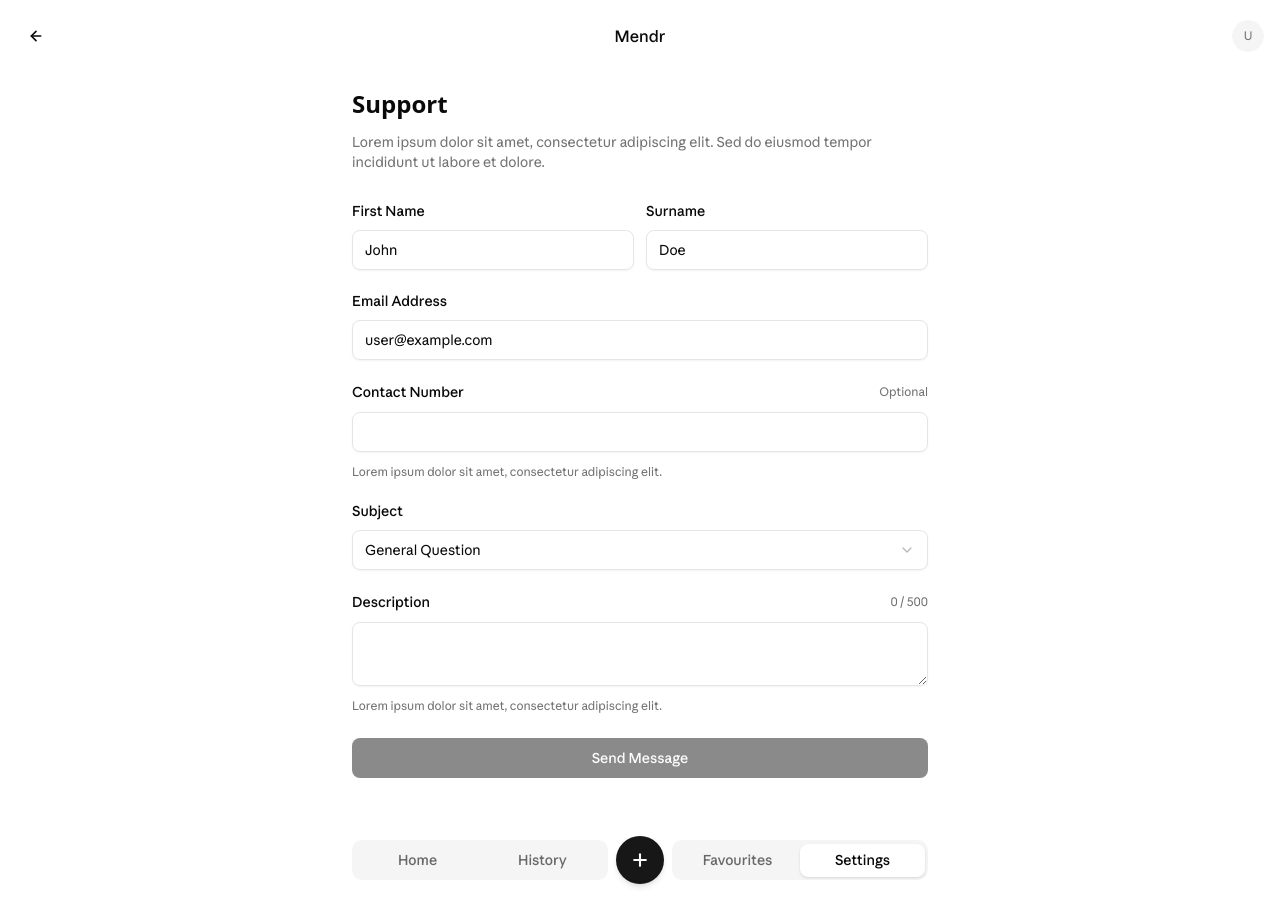
Test: settings/support/client.tsx › "Send Another Message" button resets to the form
In the text box labelled "Description": (640, 654) [352,622,928,686], type "Hello, I need help."
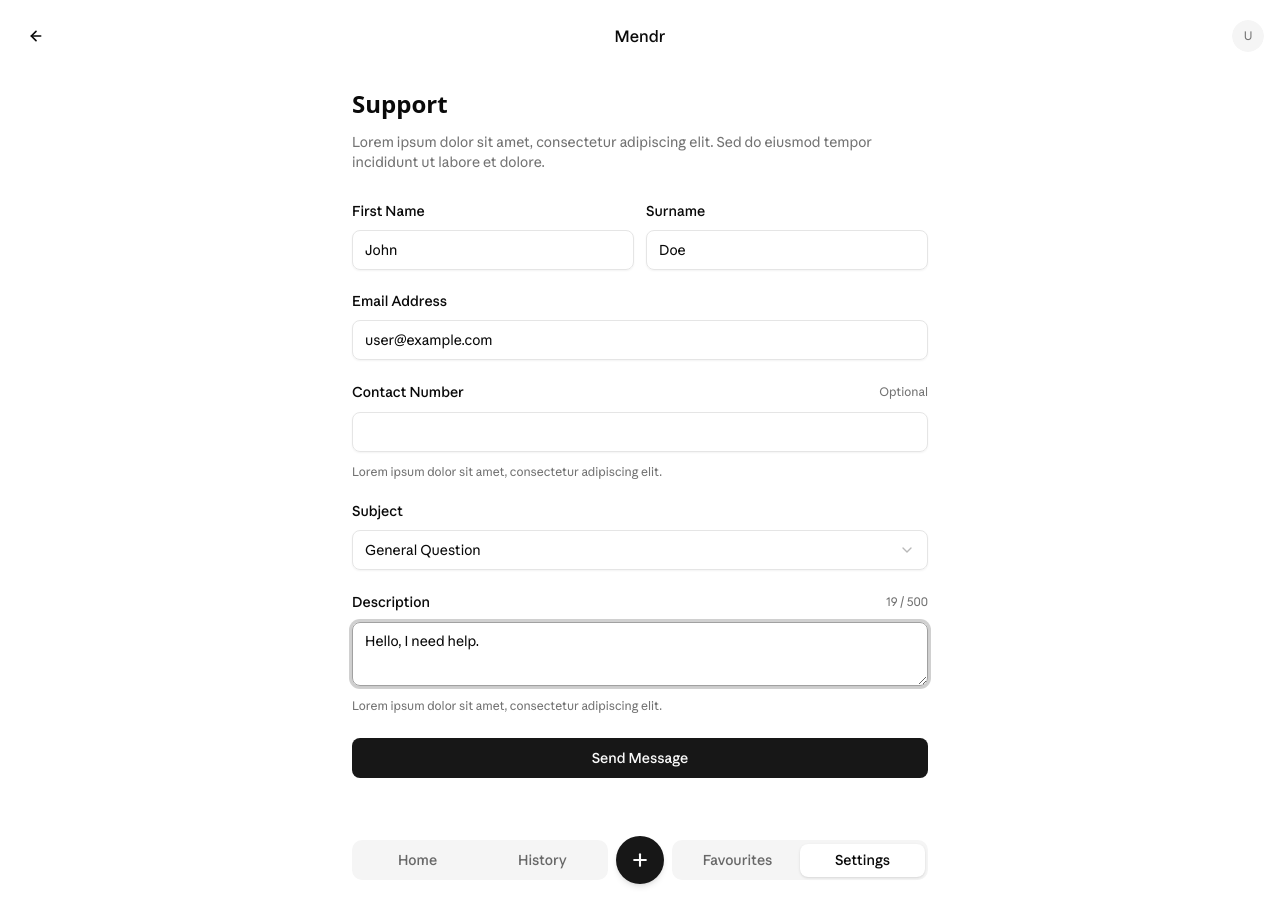
Click the button "Send Message": (640, 758) [352,738,928,778]
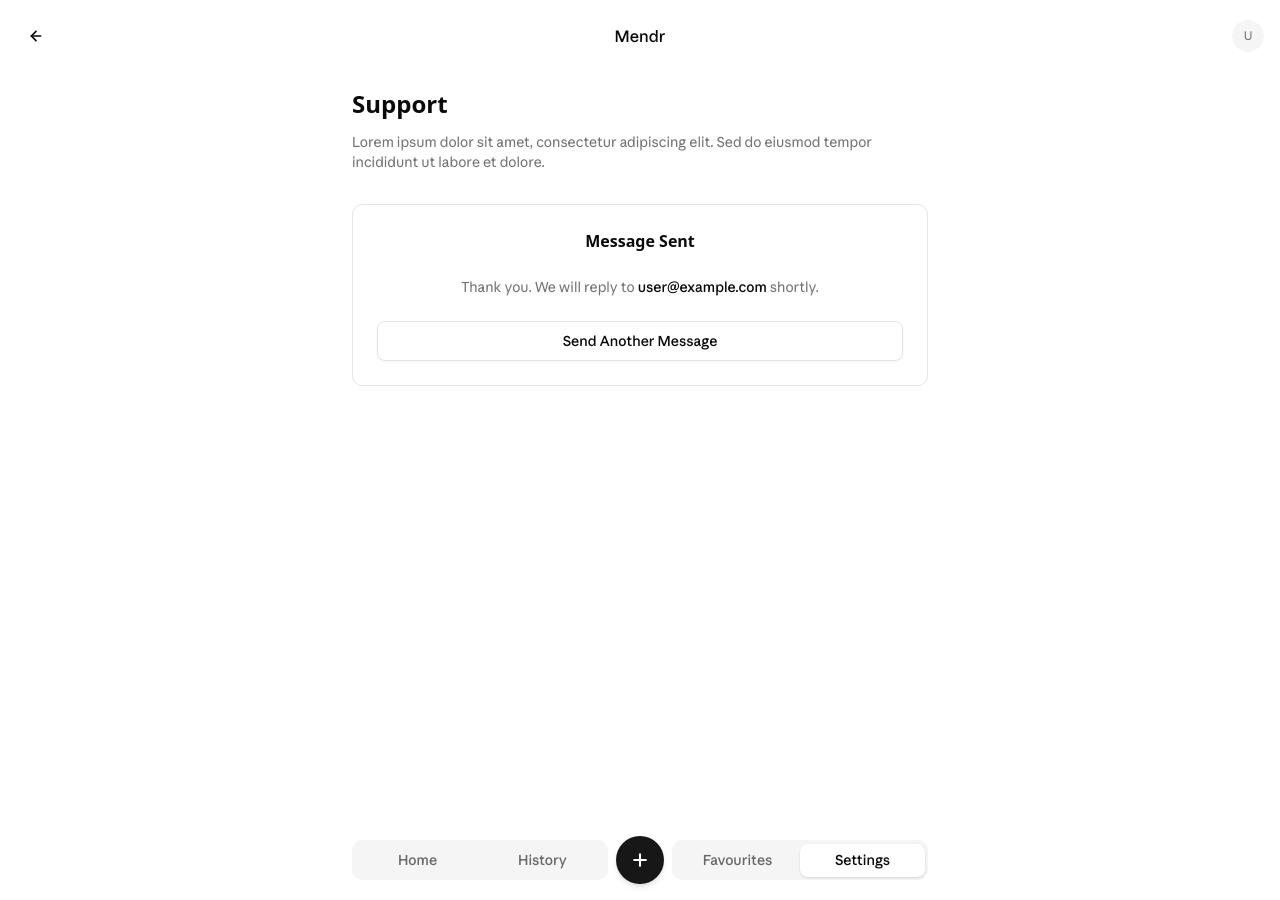
Result: the heading "Message Sent" is shown at [585,230,695,252]
Click the button "Send Another Message": (640, 341) [377,321,903,361]
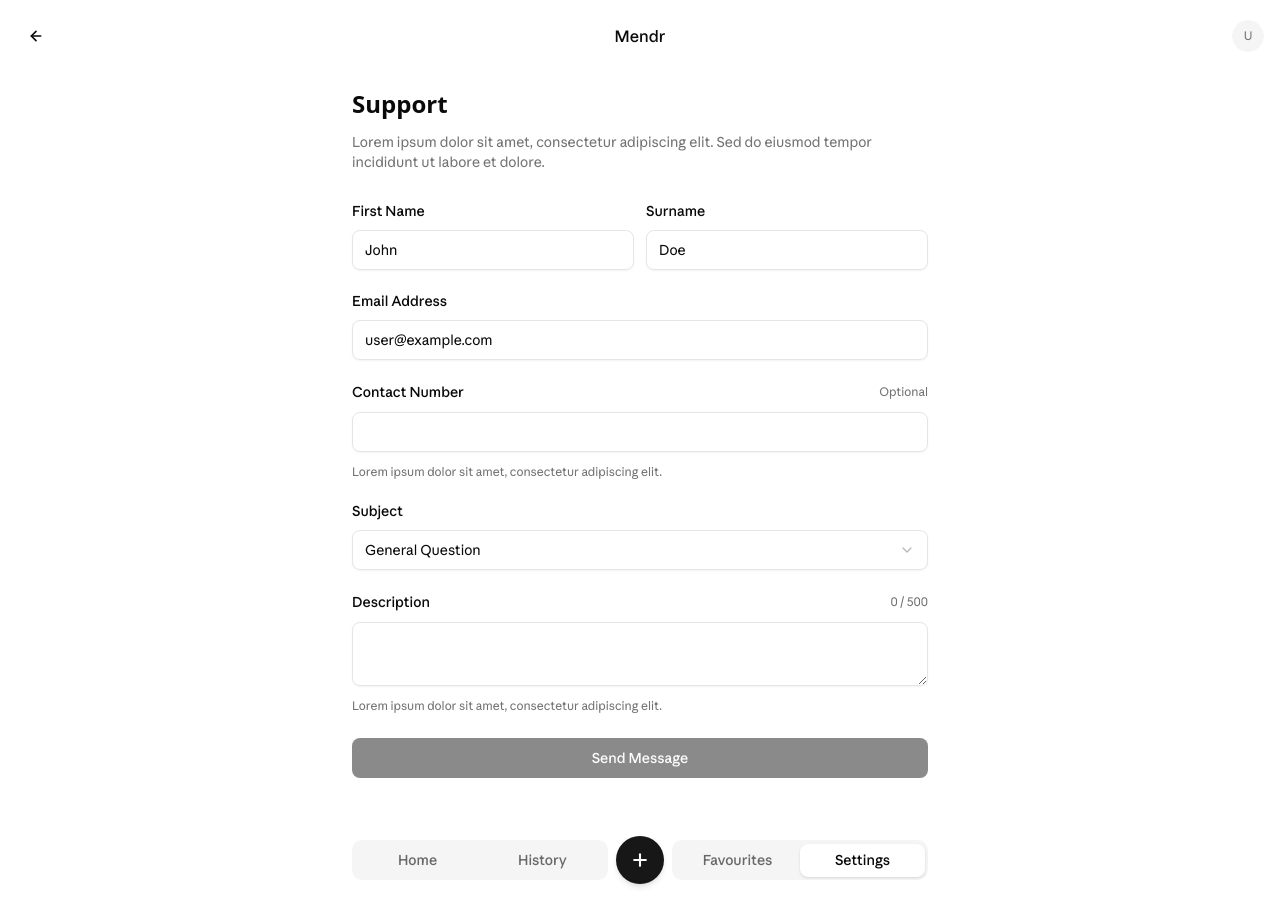
Result: the text box labelled "Description" is shown at [352,622,928,686]
Result: the heading "Message Sent" is gone
